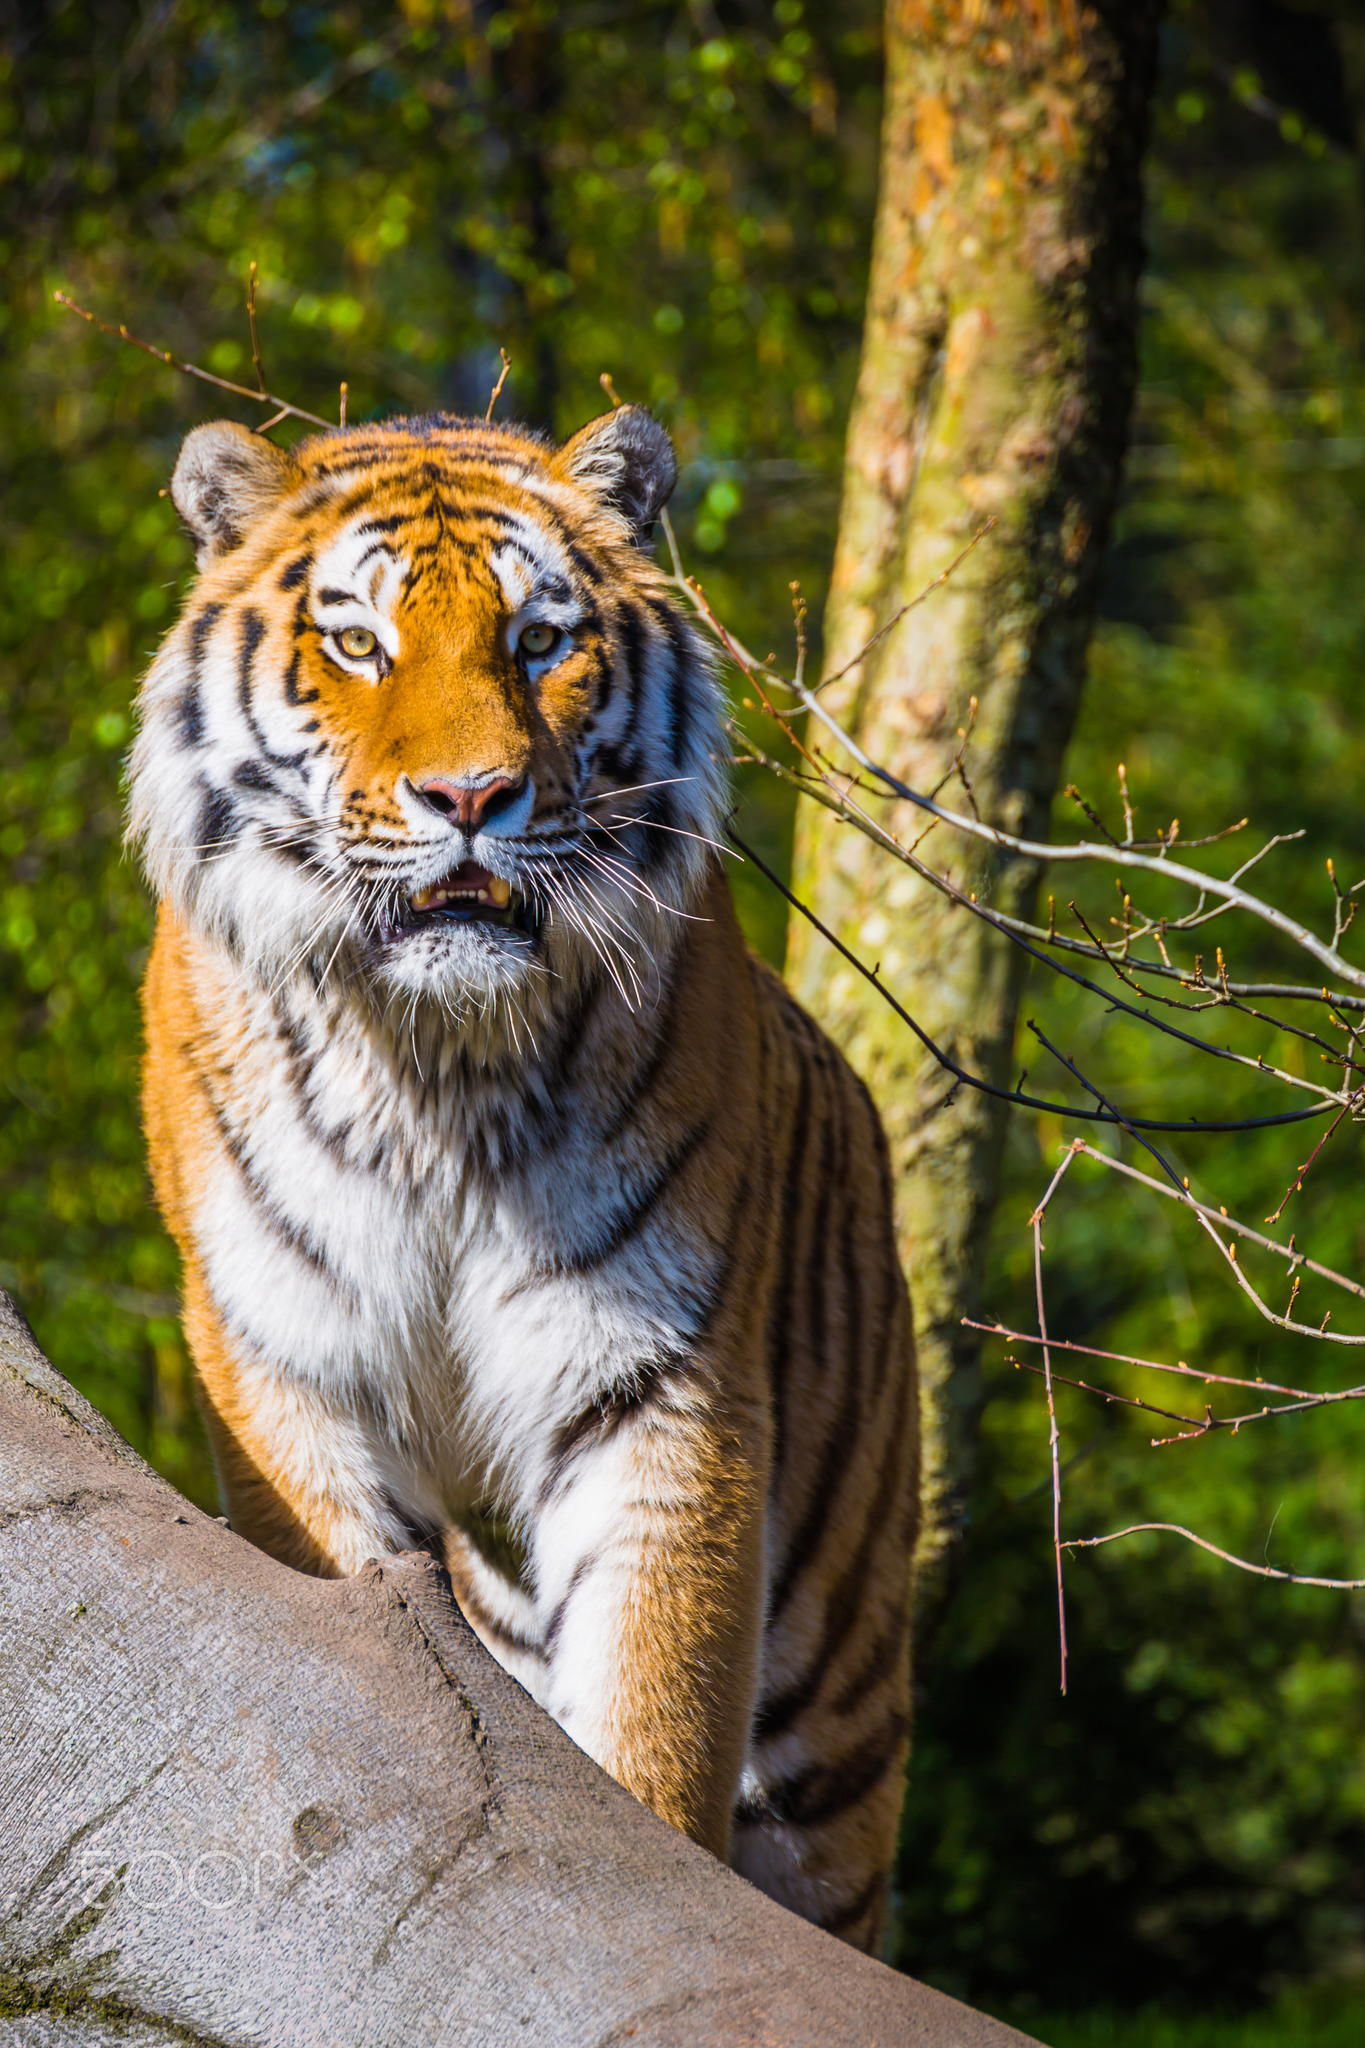tiger: (97, 375, 989, 1885)
